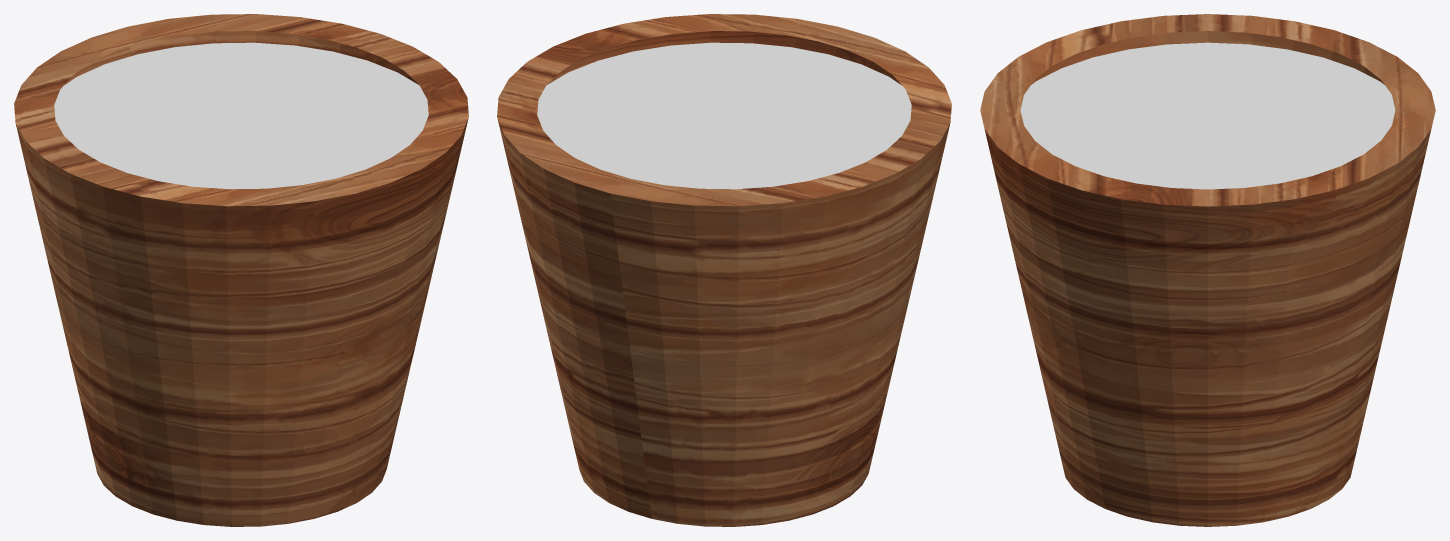
File: bucket.fbx
3 views of the same model, side by side, from view 1: azimuth 30°, elevation 25°; view 2: azimuth 150°, elevation 25°; view 3: azimuth 270°, elevation 25° (orthographic).
Parts seen in each view (by area): view 1: Bucket, Paint; view 2: Bucket, Paint; view 3: Bucket, Paint.
Boxes of the visible parts, <box> form: Bucket: <box>14,14,468,526</box>; Paint: <box>54,42,428,189</box>; Bucket: <box>497,14,951,526</box>; Paint: <box>537,42,911,189</box>; Bucket: <box>980,14,1435,526</box>; Paint: <box>1020,42,1395,189</box>.
Bounding box in the file's own units: 113 × 97.36 × 113.
